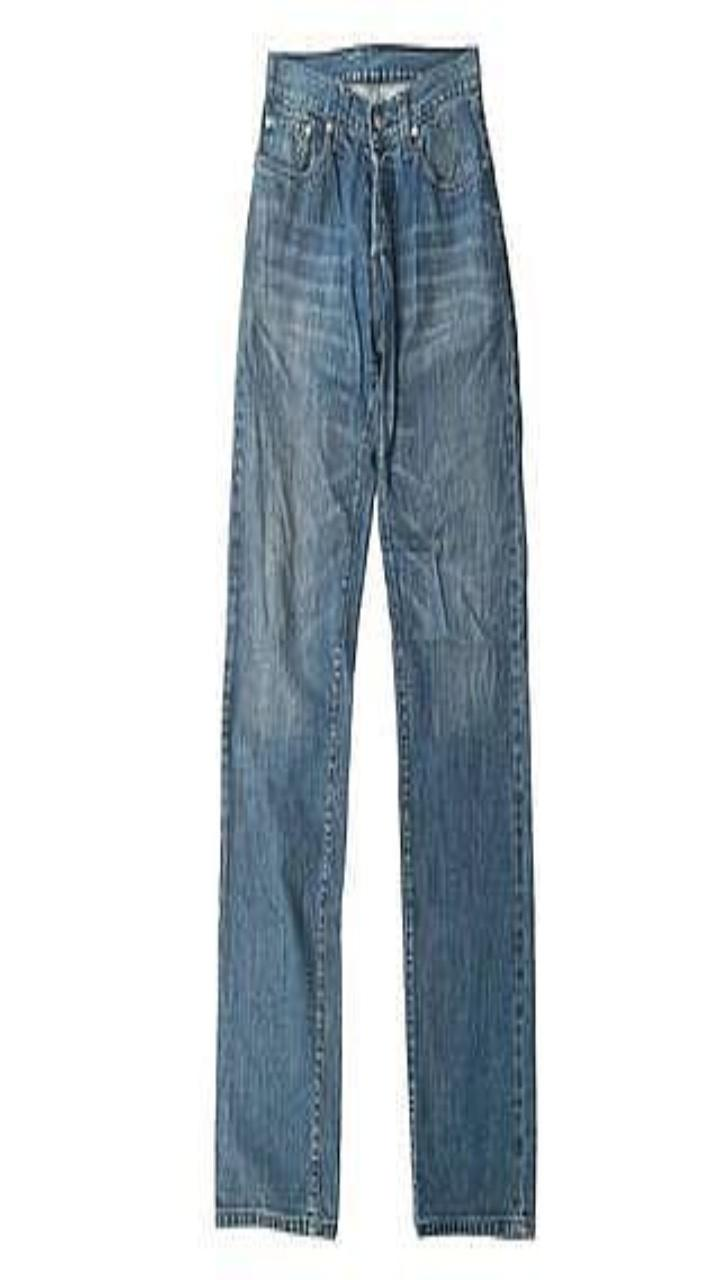Jeans: (216, 44, 535, 1237)
